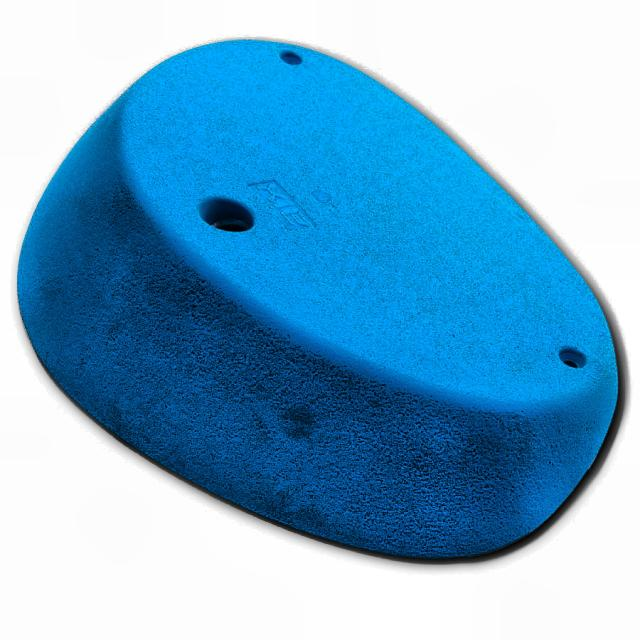Hold: (19, 39, 618, 561)
